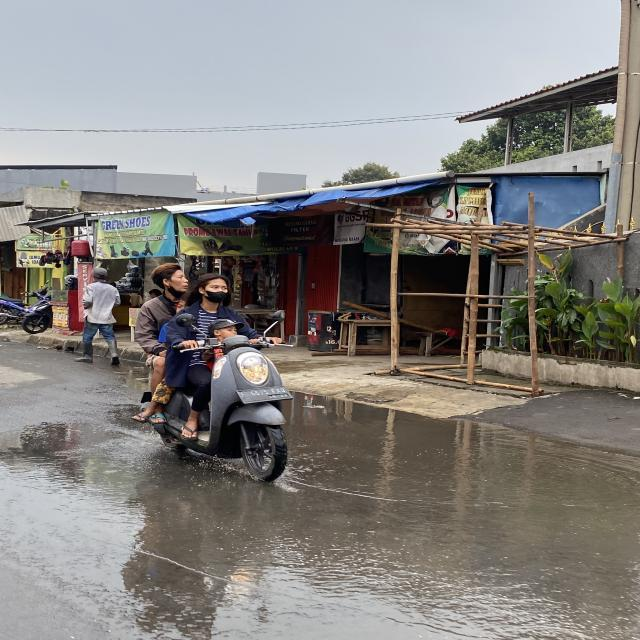Helmet: (64, 275, 77, 289), (93, 267, 107, 280)
Rearview Mirror: (176, 313, 194, 326), (268, 310, 284, 321)
